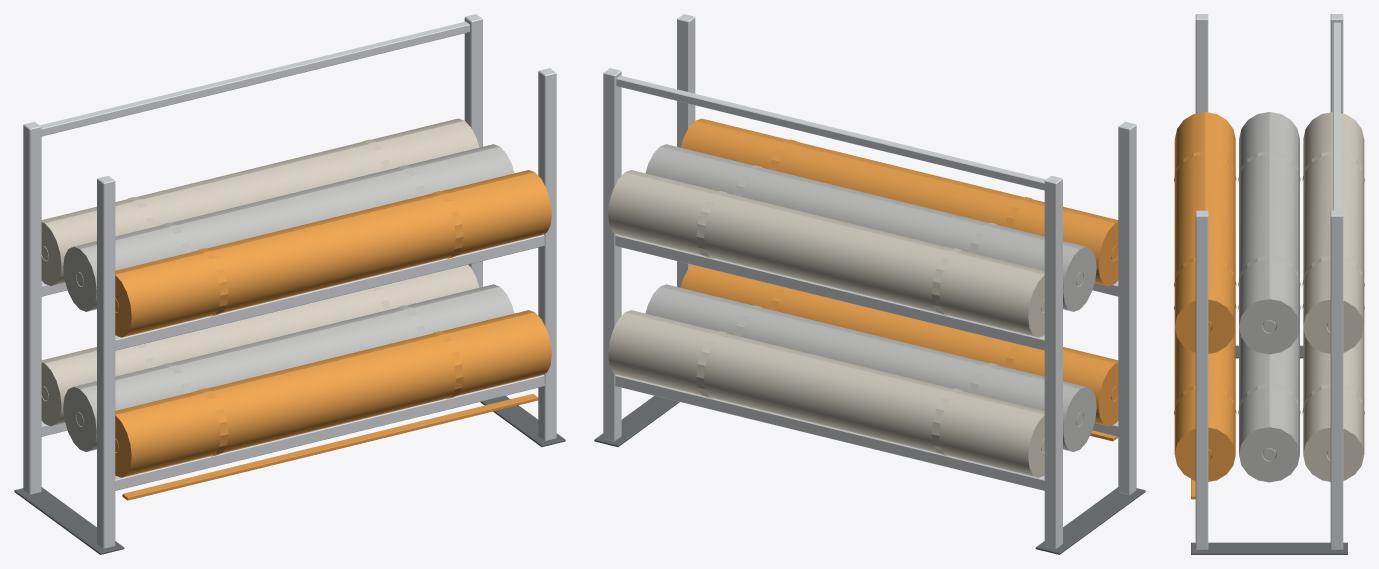
The model's file is carpet-roll-rack.glb.
3 renders of one model, left to right at view 1: azimuth 30°, elevation 25°; view 2: azimuth 150°, elevation 25°; view 3: azimuth 270°, elevation 25°, orthographic. The views are drawn at different scales.
Visible parts, largest first — view 1: carpet-roll-rack; view 2: carpet-roll-rack; view 3: carpet-roll-rack.
Part boxes in pixels (x1=…): carpet-roll-rack: x1=14, y1=14, x2=565, y2=554; carpet-roll-rack: x1=594, y1=14, x2=1145, y2=554; carpet-roll-rack: x1=1174, y1=14, x2=1364, y2=554.
Bounding box in the file's own units: 3.06 × 2.31 × 1.19.
